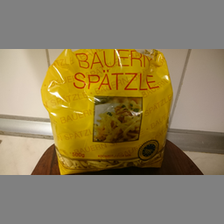pasta: (40, 49, 174, 174)
